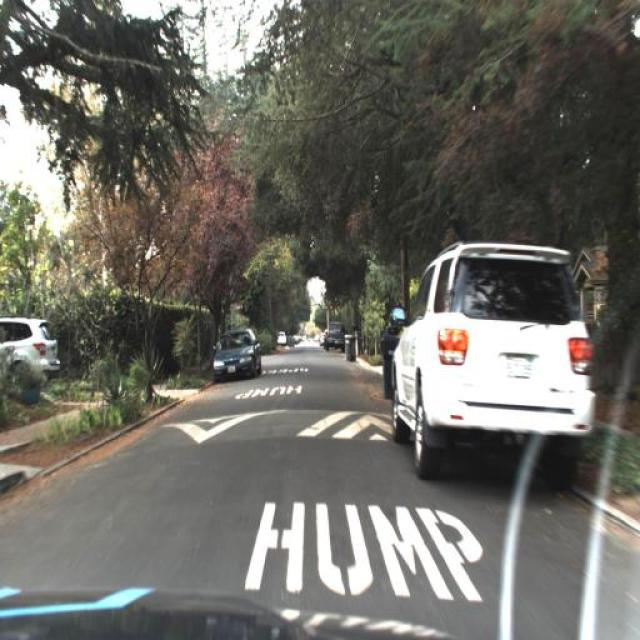car: (388, 236, 608, 498), (0, 314, 61, 394), (212, 329, 264, 379), (323, 319, 346, 352), (274, 326, 288, 346)
